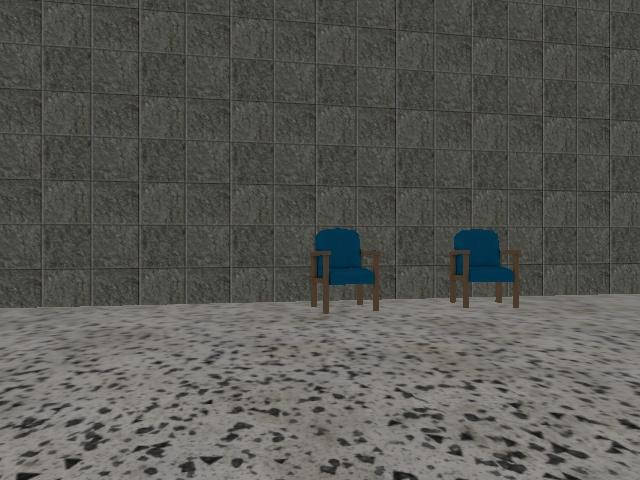chair: (309, 228, 381, 314), (449, 229, 521, 308)
